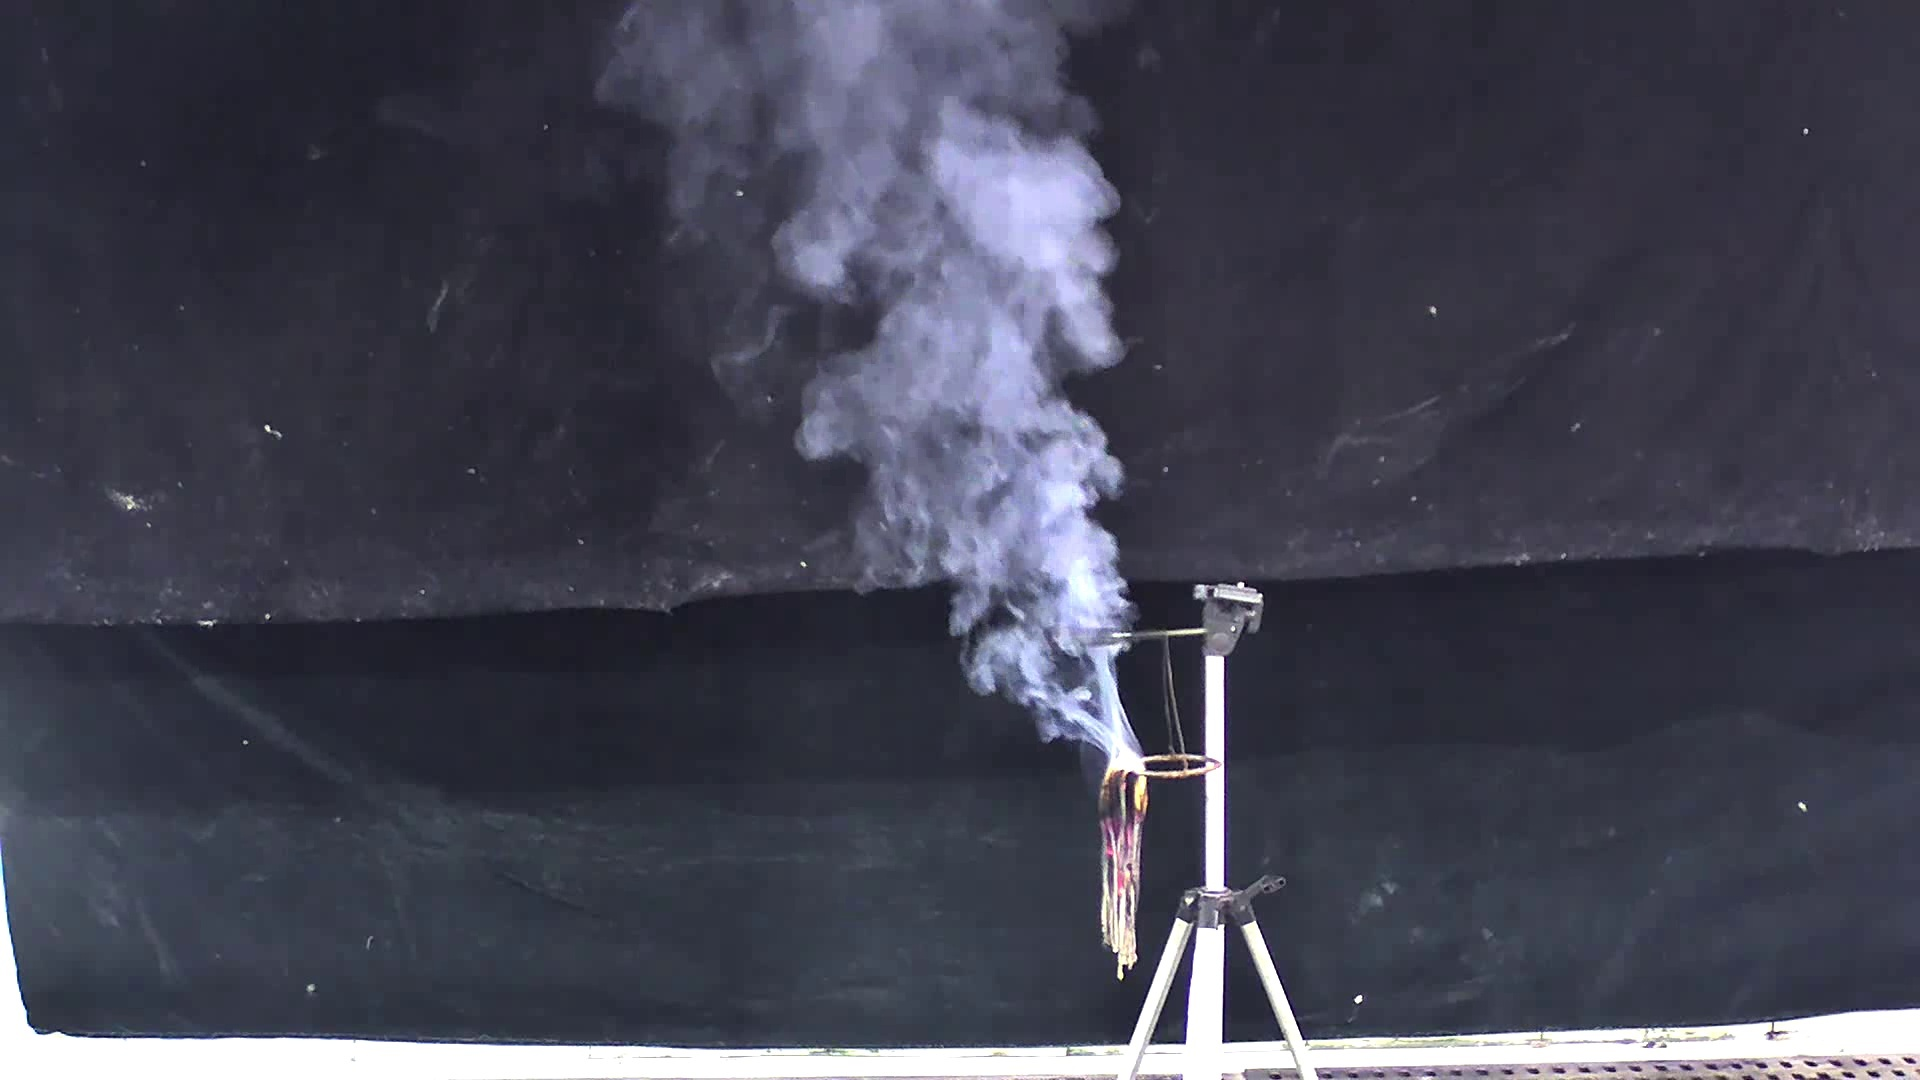smoke: (600, 20, 1160, 781)
